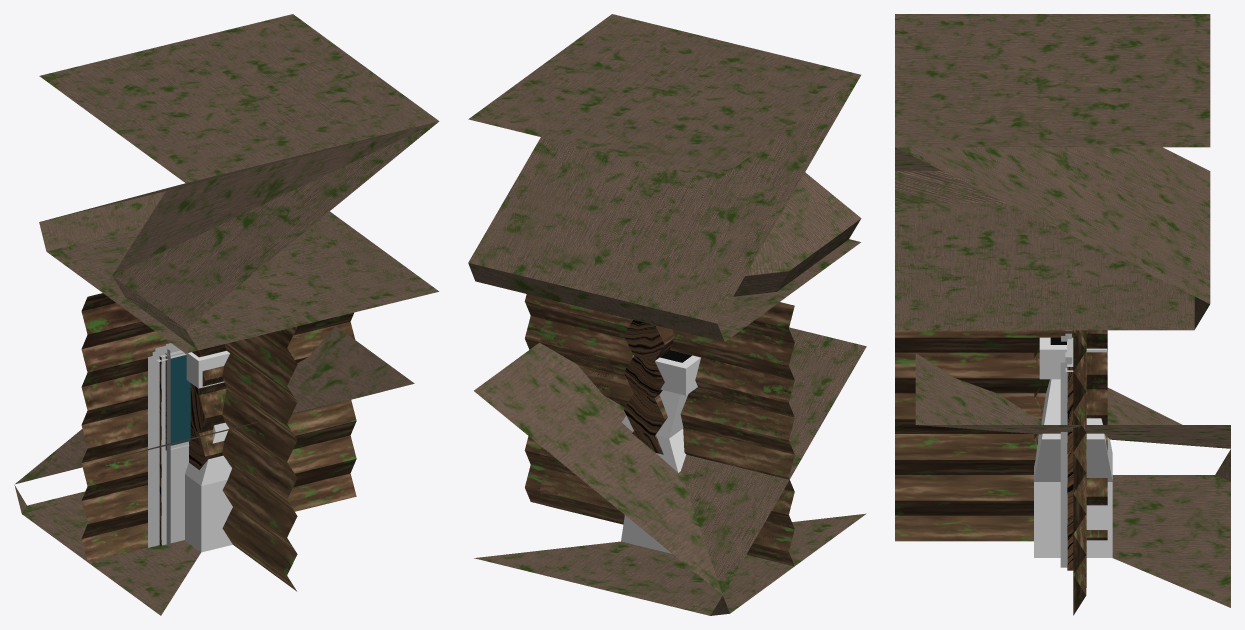
Rendered from ModularBuilding_PACK_Fixed.fbx.
3 views of the same model, side by side, from view 1: azimuth 30°, elevation 25°; view 2: azimuth 150°, elevation 25°; view 3: azimuth 270°, elevation 25° (orthographic). The views are drawn at different scales.
Visible parts, largest first — view 1: Roof_Edge_Out_EX, Roof_Flat_EX, Wall_Edge_Out_EX, Wall_Window_EX, Roof_Edge_In_EX, Roof_Middel_EX, Door_1_EX, Chimney_EX, Window_2_EX, Door_2_EX, Wall_Door_EX; view 2: Roof_Edge_In_EX, Roof_Middel_EX, Roof_Flat_EX, Wall_EX, Roof_Edge_Out_EX, Wall_Edge_Out_EX, Wall_Door_EX, Chimney_EX; view 3: Roof_Middel_EX, Roof_Flat_EX, Wall_Edge_Out_EX, Roof_Edge_In_EX, Roof_Edge_Out_EX, Chimney_EX, Wall_Door_EX, Door_1_EX, Wall_EX.
Part boxes in pixels (bbox=[...]): Roof_Edge_Out_EX: bbox=[112, 121, 438, 350]; Roof_Flat_EX: bbox=[39, 14, 438, 182]; Wall_Edge_Out_EX: bbox=[189, 312, 356, 591]; Wall_Window_EX: bbox=[81, 293, 189, 561]; Roof_Edge_In_EX: bbox=[14, 326, 414, 615]; Roof_Middel_EX: bbox=[39, 124, 438, 353]; Door_1_EX: bbox=[148, 346, 188, 547]; Chimney_EX: bbox=[184, 351, 232, 552]; Window_2_EX: bbox=[153, 343, 190, 445]; Door_2_EX: bbox=[152, 347, 165, 546]; Wall_Door_EX: bbox=[81, 355, 166, 547]; Roof_Edge_In_EX: bbox=[474, 327, 866, 615]; Roof_Middel_EX: bbox=[469, 75, 860, 342]; Roof_Flat_EX: bbox=[468, 14, 860, 179]; Wall_EX: bbox=[539, 297, 794, 566]; Roof_Edge_Out_EX: bbox=[468, 149, 861, 311]; Wall_Edge_Out_EX: bbox=[524, 294, 674, 521]; Wall_Door_EX: bbox=[539, 306, 794, 551]; Chimney_EX: bbox=[621, 350, 700, 553]; Roof_Middel_EX: bbox=[895, 147, 1210, 330]; Roof_Flat_EX: bbox=[895, 14, 1210, 147]; Wall_Edge_Out_EX: bbox=[895, 330, 1107, 615]; Roof_Edge_In_EX: bbox=[915, 353, 1230, 607]; Roof_Edge_Out_EX: bbox=[895, 147, 1210, 330]; Chimney_EX: bbox=[1034, 337, 1112, 557]; Wall_Door_EX: bbox=[1067, 339, 1086, 585]; Door_1_EX: bbox=[1060, 362, 1073, 567]; Wall_EX: bbox=[1076, 330, 1086, 587].
Bounding box in the file's own units: 212 × 328 × 213.
